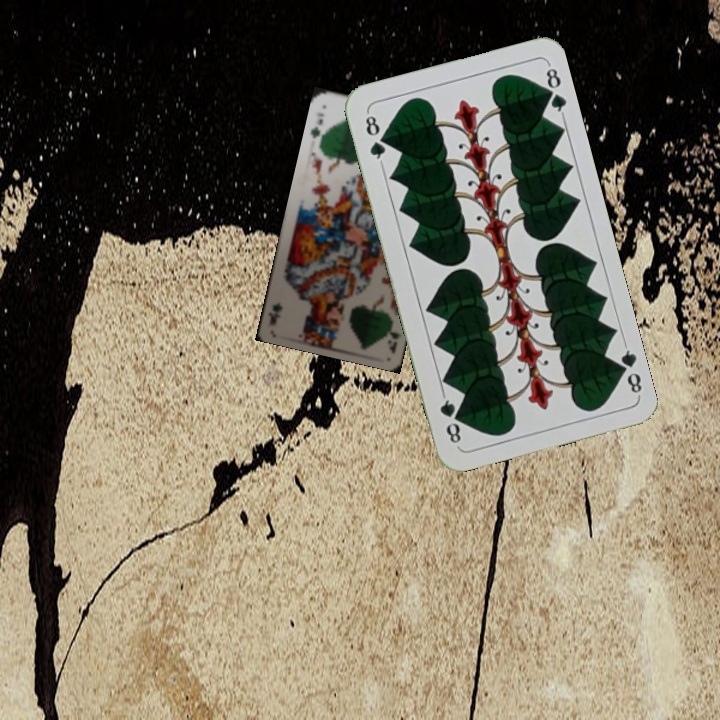G8: (611, 340, 645, 398), (361, 108, 389, 167)
GK: (383, 313, 404, 355), (306, 108, 327, 145)
